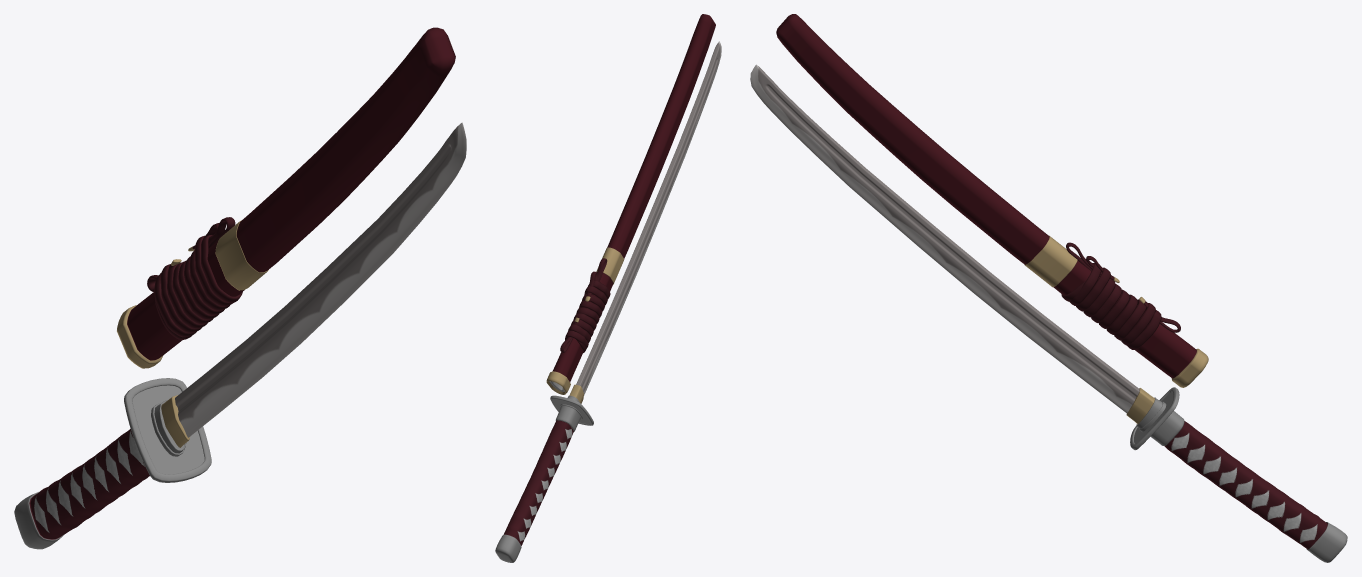
The picture shows the model from 3 angles, left to right: view 1: azimuth 30°, elevation 25°; view 2: azimuth 150°, elevation 25°; view 3: azimuth 270°, elevation 25°; orthographic projection. The views are drawn at different scales.
Parts seen in each view (by area): view 1: KatanaMesh_0; view 2: KatanaMesh_0; view 3: KatanaMesh_0.
Part boxes in pixels (left/top/right/bottom): KatanaMesh_0: left=14, top=27, right=466, bottom=549; KatanaMesh_0: left=495, top=14, right=721, bottom=562; KatanaMesh_0: left=750, top=14, right=1347, bottom=562.
Bounding box in the file's own units: 0.0708 × 0.8206 × 0.8136.
Materials: 1 (1 with a texture image).
